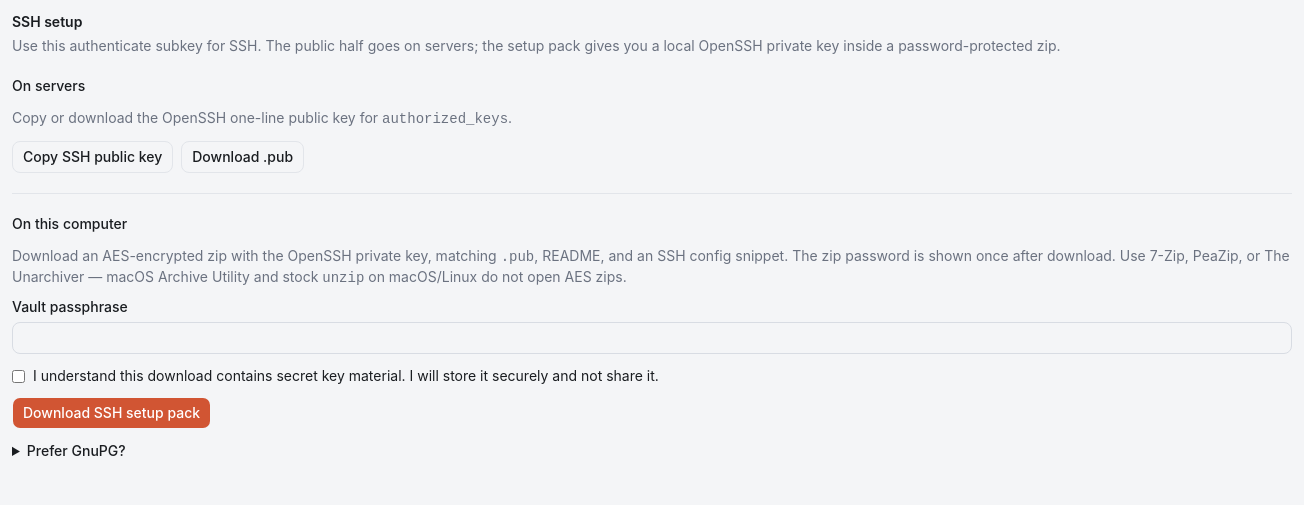
Test: SshSetupCard › surfaces an error when archive password is missing and does not toast success
Type "vault-pass-123" into the password field labelled "Vault passphrase" at point(652, 338), box [12,322,1292,354]
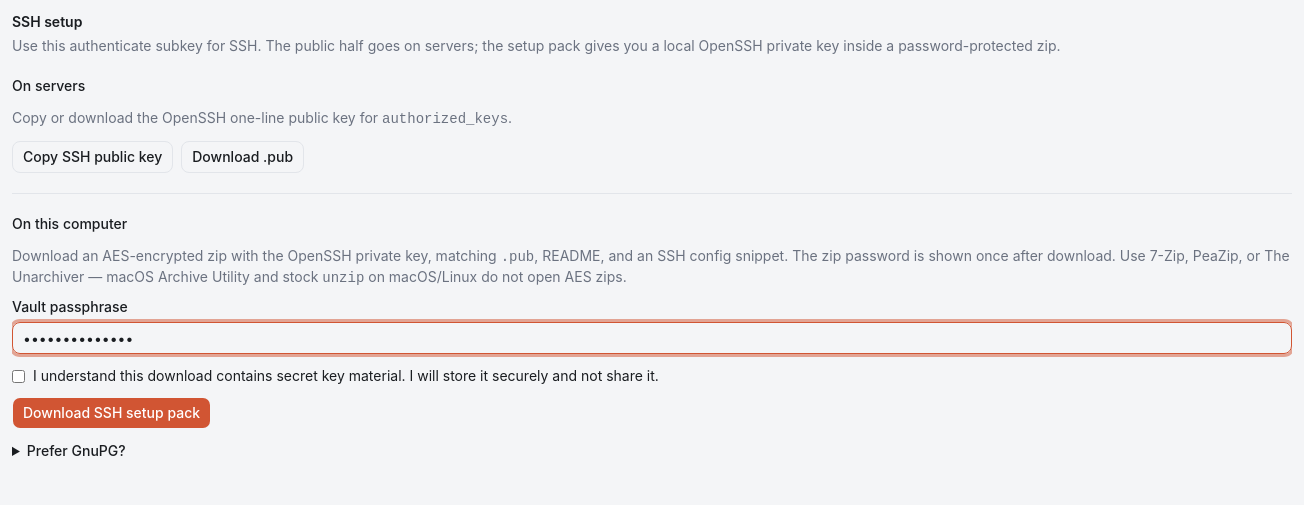
Click the checkbox labelled "I understand this download" at point(18, 376), box [12,370,25,383]
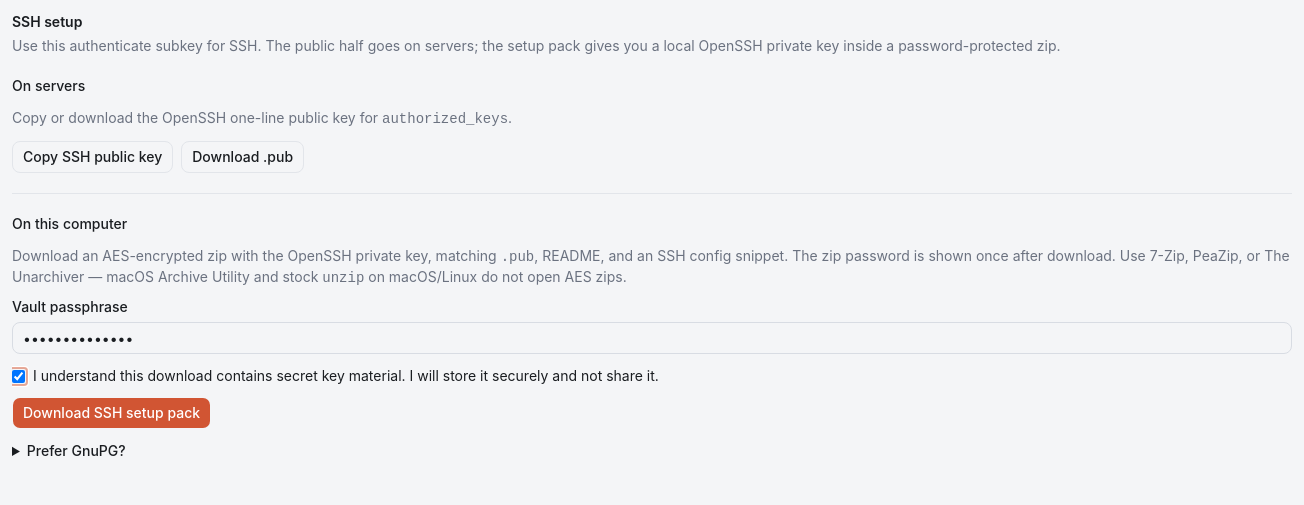
Click the button "Download SSH setup pack" at point(112, 413), box [12,397,211,429]
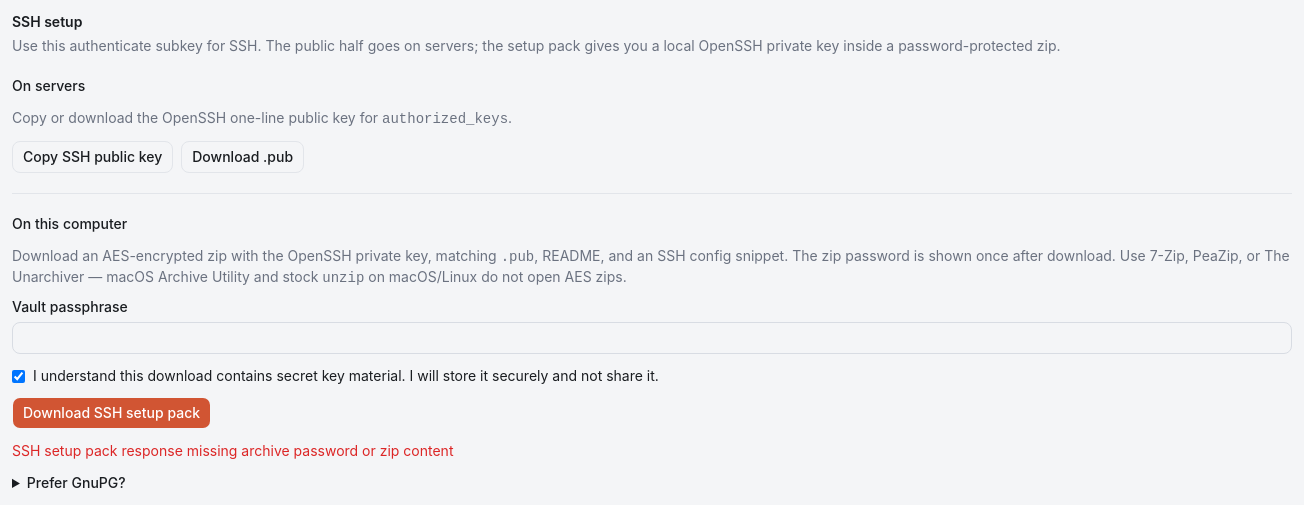
Now the text "missing archive password" is shown, box [12,442,454,459]
